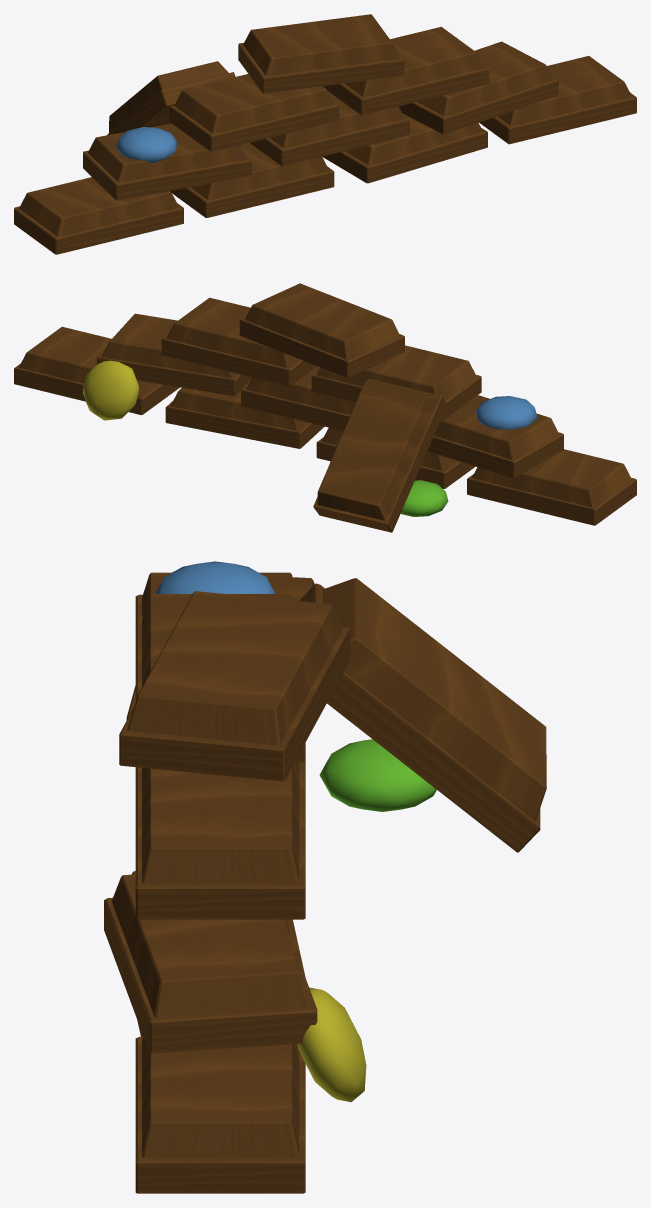
The model's file is Debris.gltf.
3 renders of one model, top to bottom at view 1: azimuth 30°, elevation 25°; view 2: azimuth 150°, elevation 25°; view 3: azimuth 270°, elevation 25°, orthographic. The views are drawn at different scales.
Parts seen in each view (by area): view 1: Debris; view 2: Debris; view 3: Debris.
Boxes of the visible parts, x1=… form: Debris: x1=14, y1=14, x2=636, y2=254; Debris: x1=14, y1=283, x2=636, y2=532; Debris: x1=104, y1=561, x2=546, y2=1193.
Size of what is drawn, in the model's own units: 3.46 by 0.8013 by 1.14.
4 materials, 1 textured.
